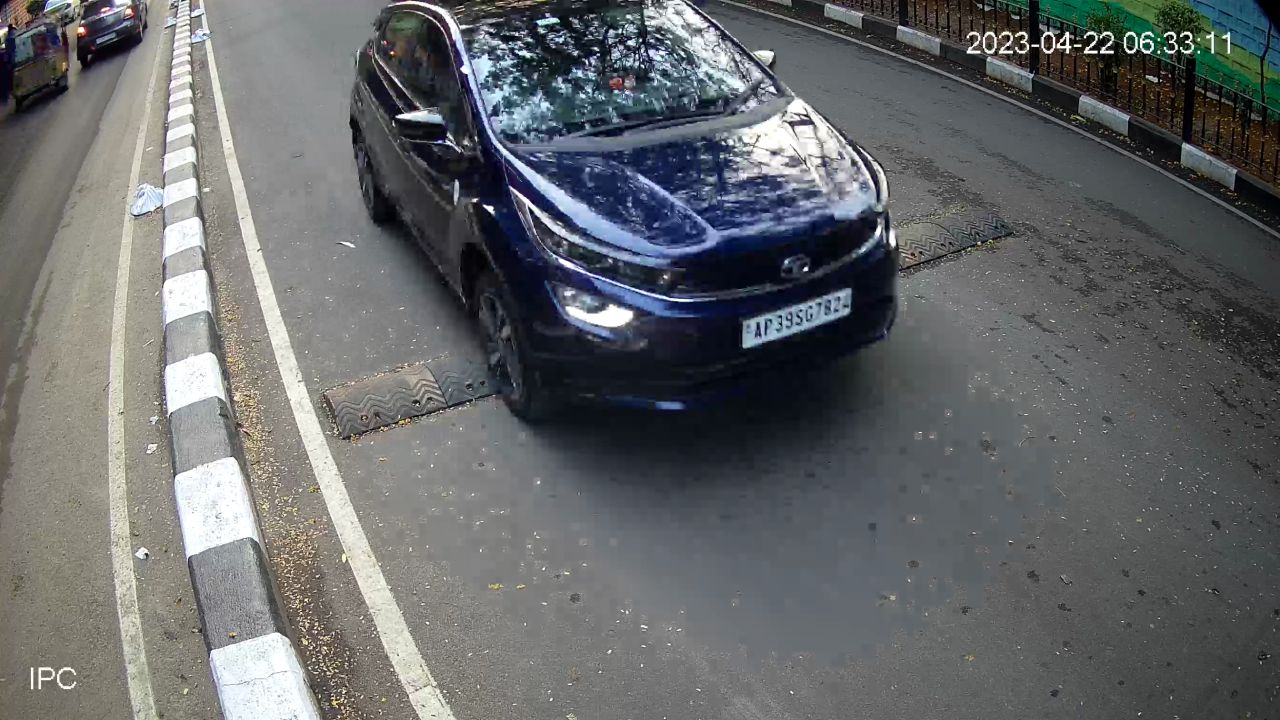license_plate: (739, 284, 858, 358)
